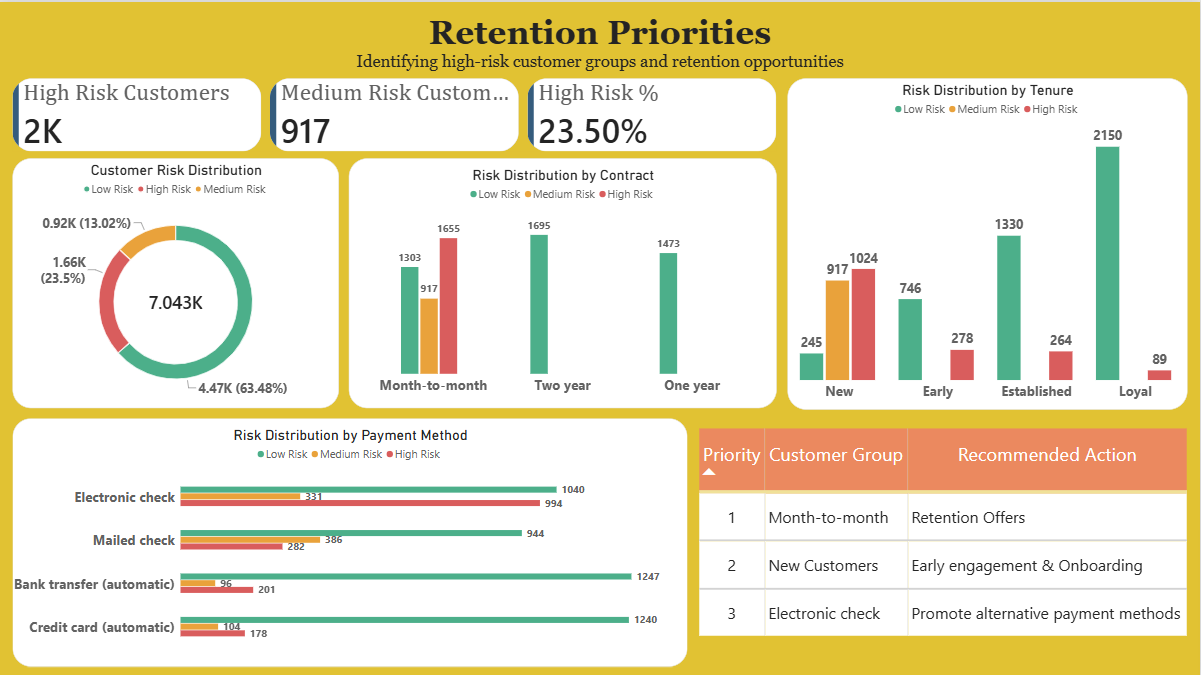

Layout of this report page (visuals, bound fields, positions):
{"tool":"powerbi","page":{"name":"Retention Priorities","canvas":[1920,1080],"ordinal":2},"visuals":[{"type":"textbox","box":[0,17.5,1920,102.5],"z":0},{"type":"donutChart","title":"Customer Risk Distribution","fields":{"Category":["telco_customer_churn_cleaned.Customer Segment"],"Y":["CountNonNull(telco_customer_churn_cleaned.customerID)"]},"box":[20,250,522.5,400],"z":1000},{"type":"clusteredColumnChart","title":"Risk Distribution by Contract","fields":{"Y":["CountNonNull(telco_customer_churn_cleaned.customerID)"],"Series":["telco_customer_churn_cleaned.Customer Segment"],"Category":["telco_customer_churn_cleaned.Contract"]},"box":[557.5,250,685,400],"z":2000},{"type":"clusteredColumnChart","title":"Risk Distribution by Tenure","fields":{"Y":["CountNonNull(telco_customer_churn_cleaned.customerID)"],"Series":["telco_customer_churn_cleaned.Customer Segment"],"Category":["telco_customer_churn_cleaned.TenureGroup"]},"box":[1260,122.5,640,530],"z":3000},{"type":"clusteredBarChart","title":"Risk Distribution by Payment Method","fields":{"Category":["telco_customer_churn_cleaned.PaymentMethod"],"Y":["CountNonNull(telco_customer_churn_cleaned.customerID)"],"Series":["telco_customer_churn_cleaned.Customer Segment"]},"box":[20,665,1080,397.5],"z":4000},{"type":"cardVisual","fields":{"Data":["telco_customer_churn_cleaned.High Risk Customers","telco_customer_churn_cleaned.Medium Risk Customers","telco_customer_churn_cleaned.High Risk %"]},"box":[20,122.5,1222.5,117.5],"z":5000},{"type":"tableEx","fields":{"Values":["Retention Properties.Priority","Retention Properties.Customer Group","Retention Properties.Recommended Action"]},"box":[1118,688,782,374],"z":6000}]}

Visuals, with their boxes in screenshot pixels (x1, y1, x2, y2), scaled from the page's 1920x1080 canvas onto the 1201x675 screenshot:
textbox: Rect(0, 11, 1200, 75)
"Customer Risk Distribution" donutChart: Rect(13, 156, 339, 406)
"Risk Distribution by Contract" clusteredColumnChart: Rect(349, 156, 777, 406)
"Risk Distribution by Tenure" clusteredColumnChart: Rect(788, 77, 1188, 408)
"Risk Distribution by Payment Method" clusteredBarChart: Rect(13, 416, 688, 664)
cardVisual - telco_customer_churn_cleaned.High Risk Customers x telco_customer_churn_cleaned.Medium Risk Customers: Rect(13, 77, 777, 150)
tableEx - Retention Properties.Priority x Retention Properties.Customer Group: Rect(699, 430, 1188, 664)
